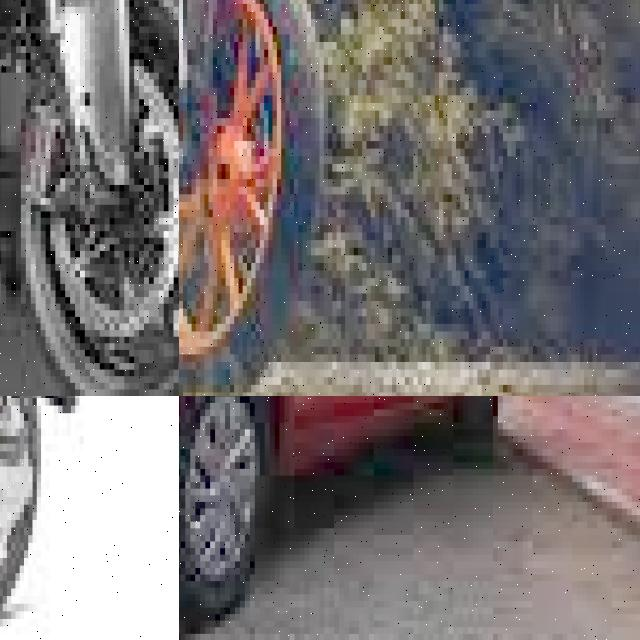bike: (0, 0, 179, 396), (179, 0, 358, 392), (0, 396, 105, 640)
car: (179, 396, 503, 627)
